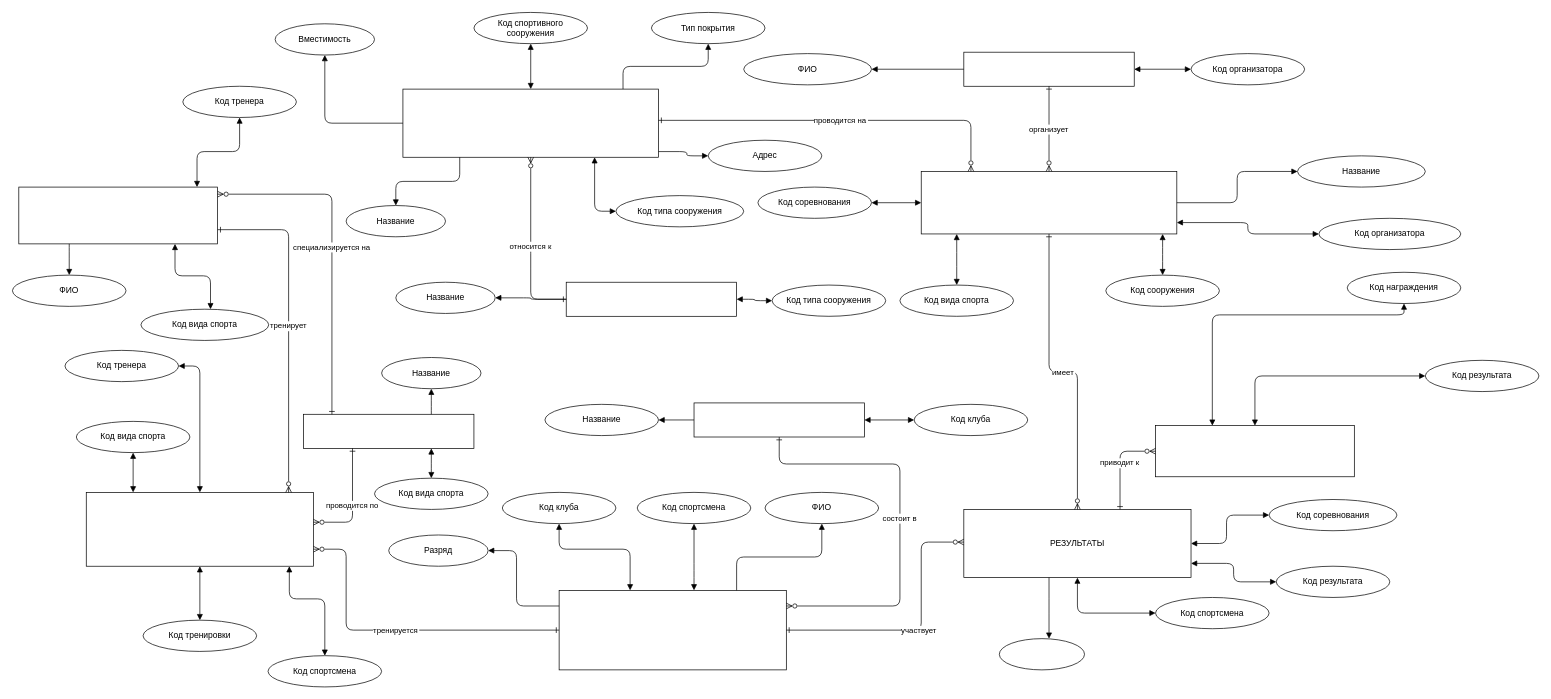
The diagram is 1551 pixels wide and 699 high, and some of its shapes have lost their labels. The box of each missing label's shape, as (x1, y1, x2, y2) in pixels:
ВИДЫ СПОРТА: (303, 414, 474, 448)
Место: (999, 638, 1085, 670)
НАГРАЖДЕНИЕ: (1155, 425, 1354, 477)
ОРГАНИЗАТОРЫ: (963, 51, 1134, 86)
СОРЕВНОВАНИЯ: (921, 171, 1177, 234)
СПОРТИВНЫЕ КЛУБЫ: (693, 402, 864, 437)
СПОРТИВНЫЕ СООРУЖЕНИЯ: (402, 88, 659, 157)
СПОРТСМЕНЫ: (558, 590, 786, 670)
ТИПЫ СООРУЖЕНИЙ: (566, 282, 737, 316)
ТРЕНЕРЫ: (18, 186, 218, 244)
ТРЕНИРОВКИ: (86, 492, 313, 566)
